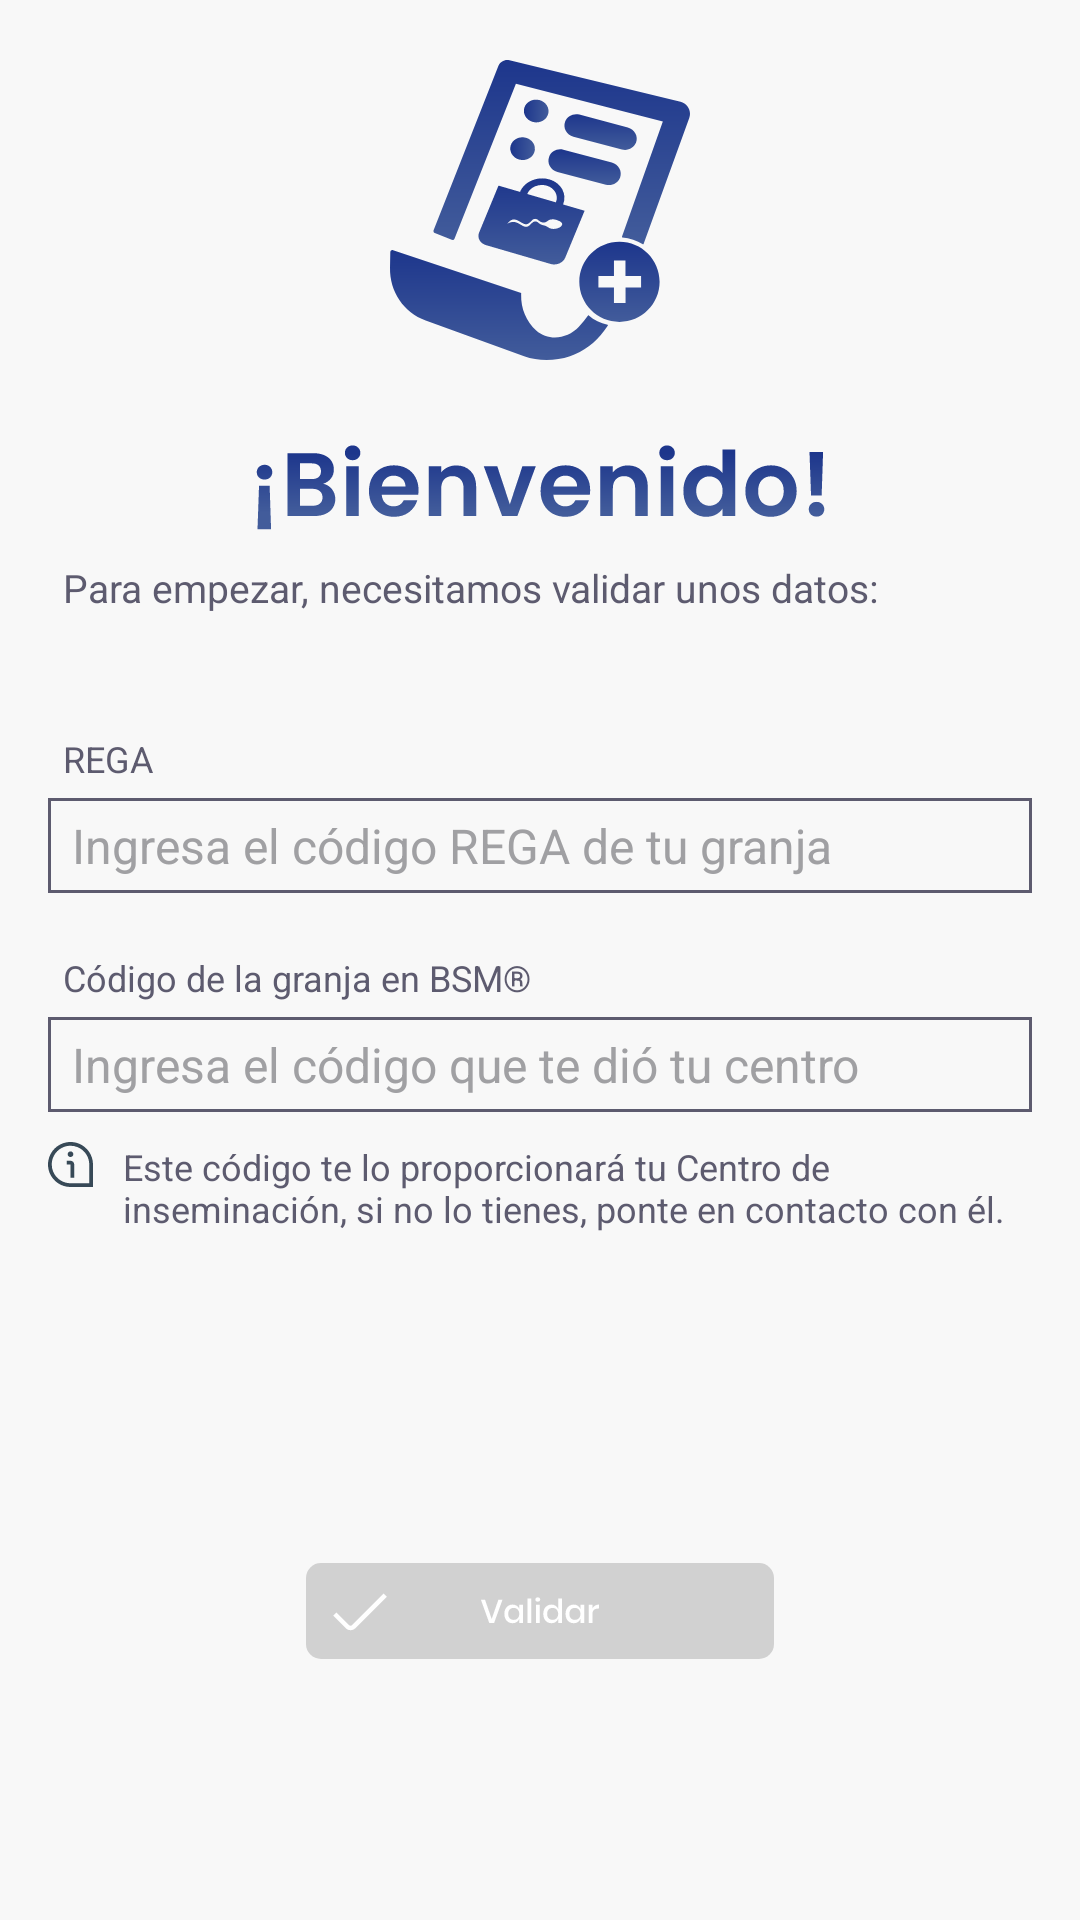

Where to tap for icons on this 1080*1920 app screen, as (x,y):
comentario info: (70,1164)
pedidos azul: (540,210)
